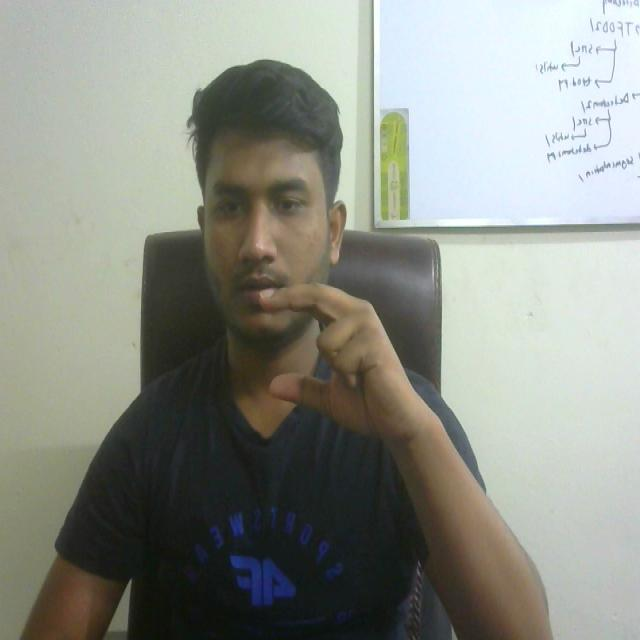D: (248, 248, 415, 480)
